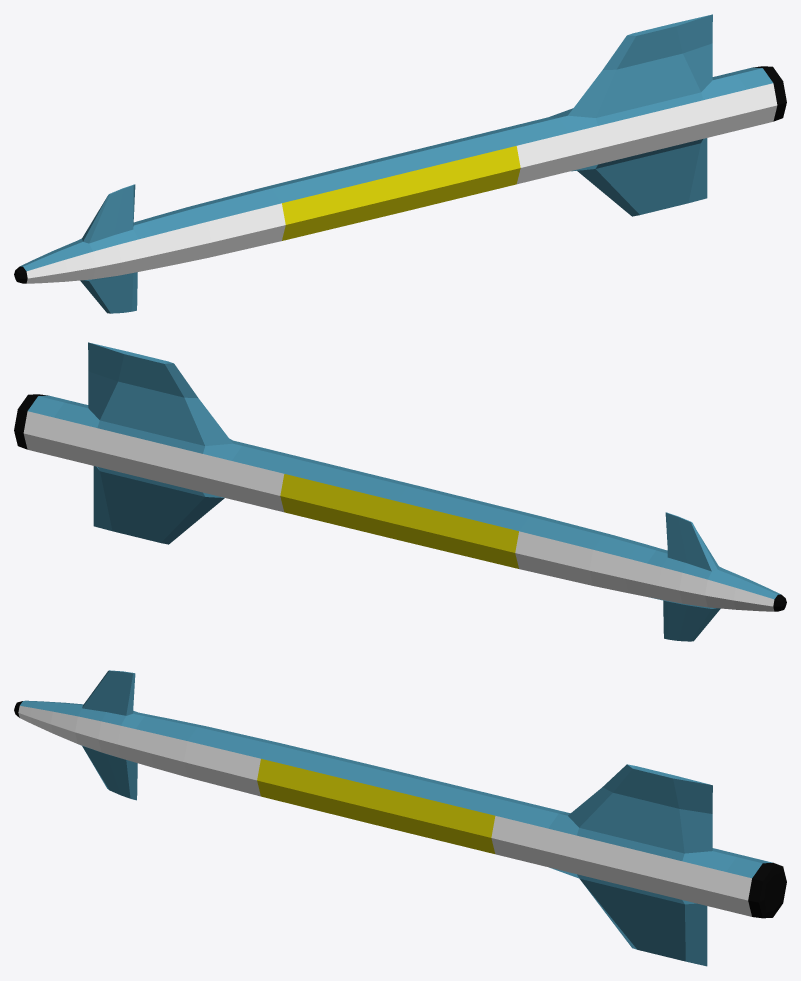
The model's file is misil.fbx.
The picture shows the model from 3 angles, top to bottom: view 1: azimuth 30°, elevation 25°; view 2: azimuth 150°, elevation 25°; view 3: azimuth 330°, elevation 25°; orthographic projection.
Visible parts, largest first — view 1: Cube; view 2: Cube; view 3: Cube.
Boxes of the visible parts, x1,y1,x2,y2 form: Cube: [14, 14, 786, 313]; Cube: [14, 342, 786, 641]; Cube: [14, 670, 786, 966].
Size of the model in its own units: 494 by 113 by 32.98.
